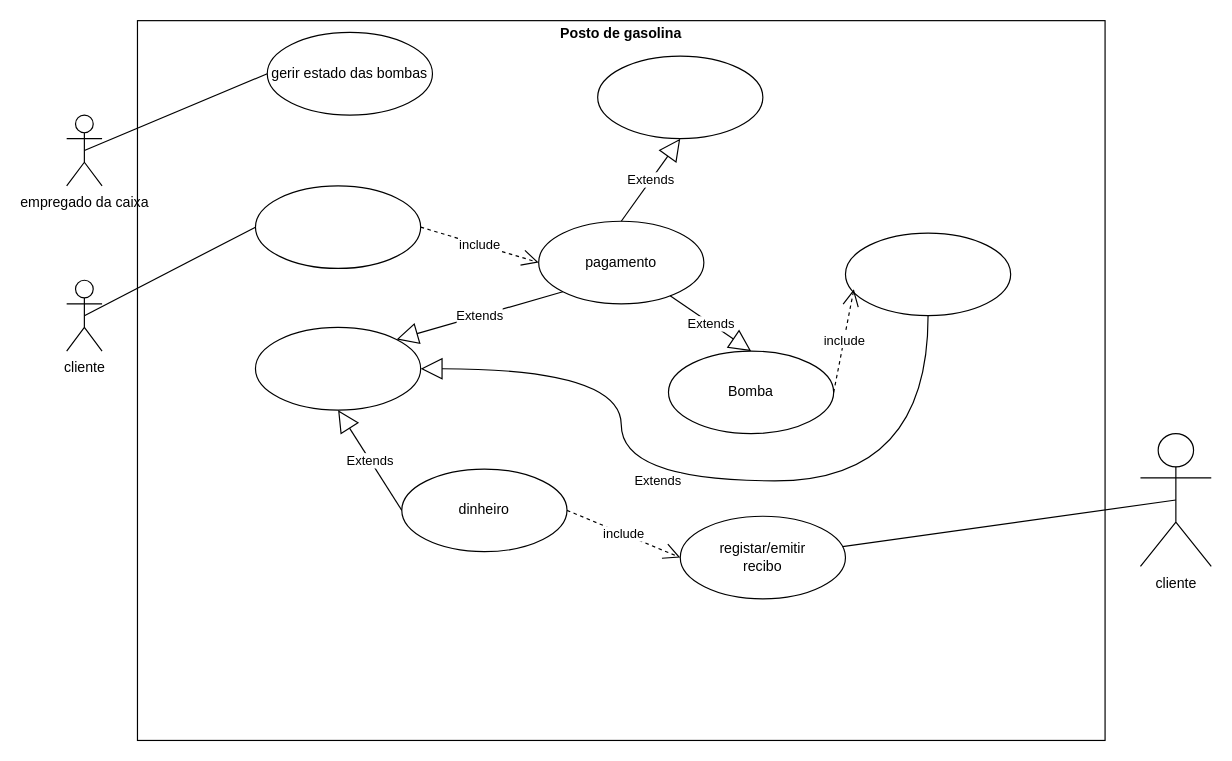
The diagram is 1232 pixels wide and 761 high, and some of its shapes have lost their labels. Here are the shapes that lost their labels. From the top down, the centre of each, then its label:
(679,97): cartão fidelização
(337,226): abasteciemento
(927,274): cartão bancário
(337,368): caixa central
